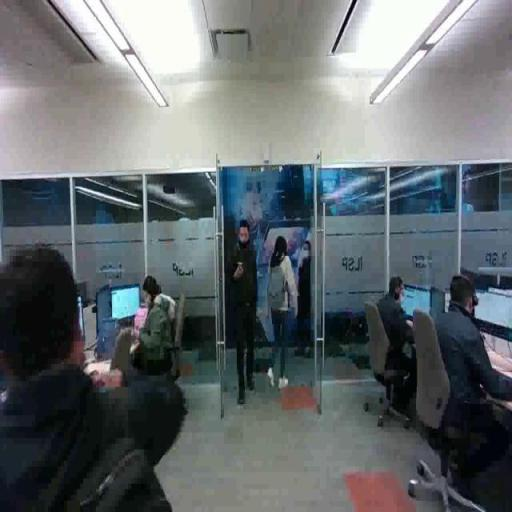person: (434, 273, 512, 508), (107, 270, 193, 385), (368, 273, 439, 408), (228, 219, 262, 410), (269, 236, 298, 392), (297, 240, 319, 357)
